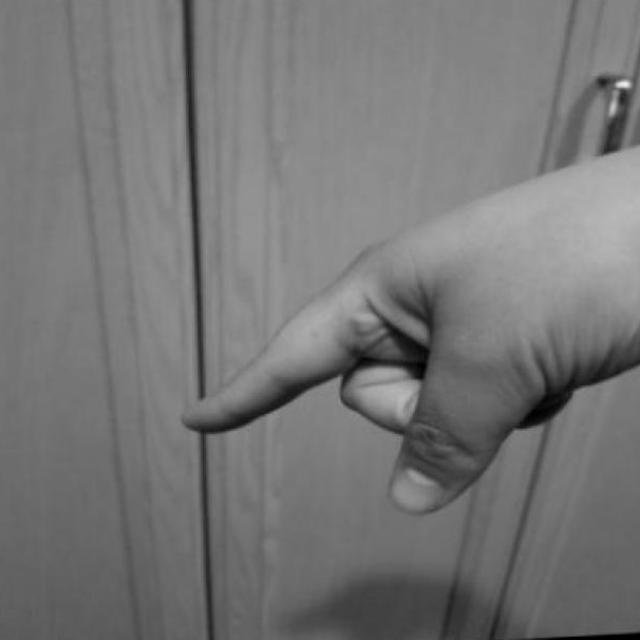Q: (181, 153, 640, 527)
